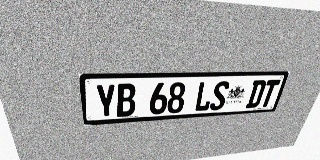6: (149, 82, 169, 115)
8: (166, 82, 187, 114)
B: (116, 83, 136, 117)
D: (245, 80, 267, 108)
L: (194, 81, 215, 112)
S: (209, 81, 230, 111)
T: (258, 80, 281, 107)
Y: (95, 84, 116, 118)
